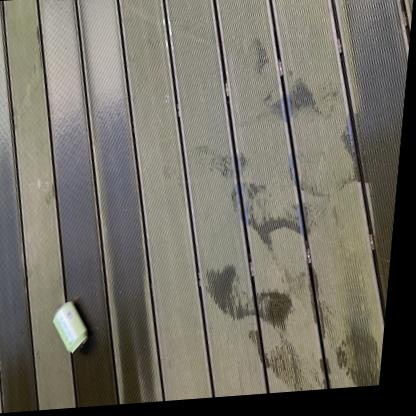trash: (53, 302, 87, 352)
